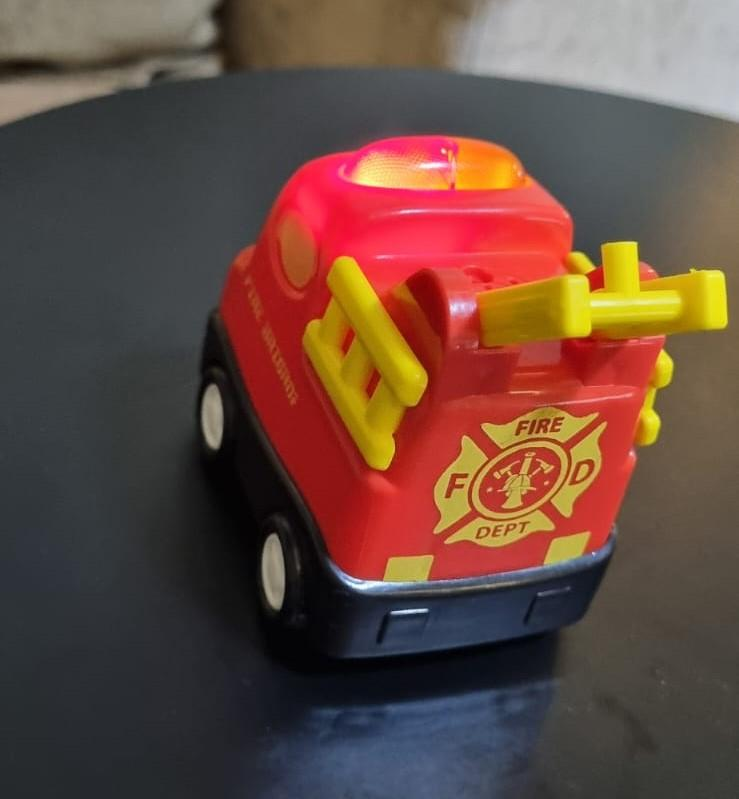firetruck_on: (197, 133, 728, 670)
